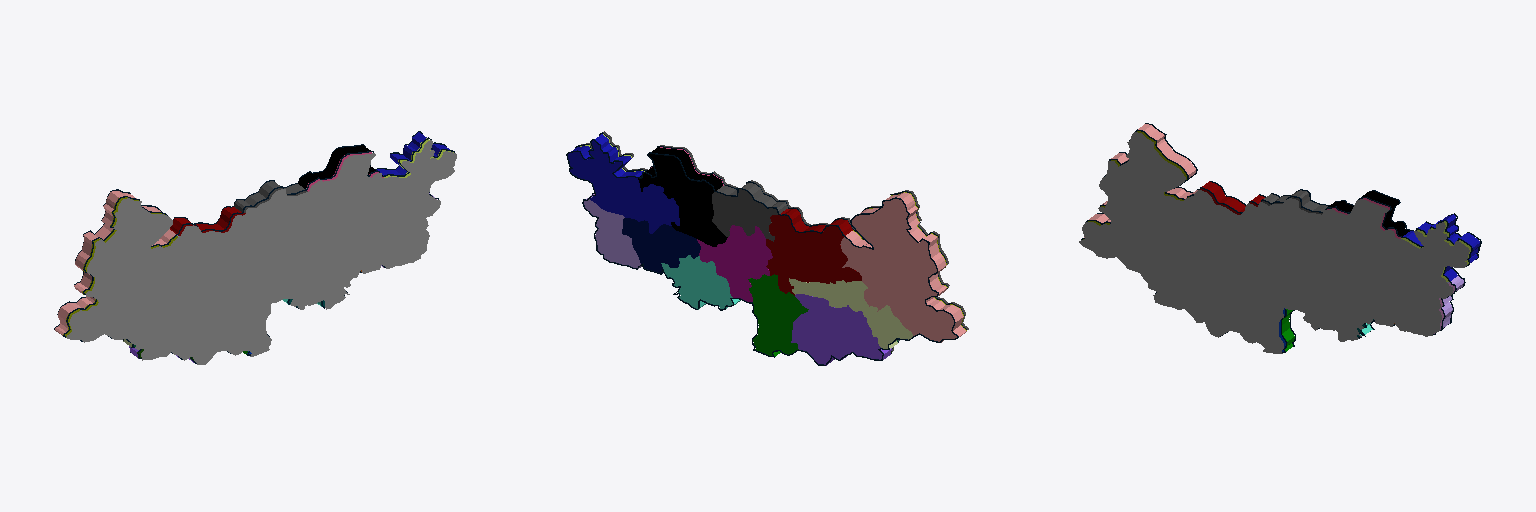
File: deqing13.obj
3 views of the same model, side by side, from view 1: azimuth 30°, elevation 25°; view 2: azimuth 150°, elevation 25°; view 3: azimuth 330°, elevation 25° (orthographic).
Visible parts, largest first — view 1: texture, [number redacted]_bottom, top_border, [number redacted]_bottom, [number redacted]_bottom, [number redacted]_bottom; view 2: [number redacted]_bottom, [number redacted]_bottom, [number redacted]_bottom, [number redacted]_bottom, [number redacted]_bottom, [number redacted]_bottom, [number redacted]_bottom, [number redacted]_bottom, [number redacted]_bottom, [number redacted]_bottom, [number redacted]_bottom, bottom_border (+2 smaller); view 3: texture, [number redacted]_bottom, top_border, [number redacted]_bottom, [number redacted]_bottom, bottom_border.
Boxes of the visible parts, box(x1,y1,x2,y2) form: texture: box(66, 140, 456, 364); [number redacted]_bottom: box(55, 191, 175, 335); top_border: box(63, 137, 454, 363); [number redacted]_bottom: box(298, 145, 382, 188); [number redacted]_bottom: box(377, 132, 449, 175); [number redacted]_bottom: box(234, 181, 304, 211); [number redacted]_bottom: box(840, 192, 966, 342); [number redacted]_bottom: box(766, 209, 861, 295); [number redacted]_bottom: box(568, 134, 679, 233); [number redacted]_bottom: box(791, 294, 891, 365); [number redacted]_bottom: box(638, 147, 727, 246); [number redacted]_bottom: box(697, 225, 772, 301); [number redacted]_bottom: box(748, 274, 808, 356); [number redacted]_bottom: box(789, 278, 912, 348); [number redacted]_bottom: box(712, 183, 786, 241); [number redacted]_bottom: box(622, 218, 700, 273); [number redacted]_bottom: box(661, 255, 740, 309); bottom_border: box(566, 139, 958, 365); texture: box(1079, 132, 1469, 353); [number redacted]_bottom: box(1084, 124, 1197, 237); top_border: box(1081, 129, 1472, 352); [number redacted]_bottom: box(1403, 214, 1479, 280); [number redacted]_bottom: box(1328, 191, 1409, 236); bottom_border: box(1097, 123, 1481, 346).
Size of the model in its own units: 84.48 by 39.16 by 4.24.